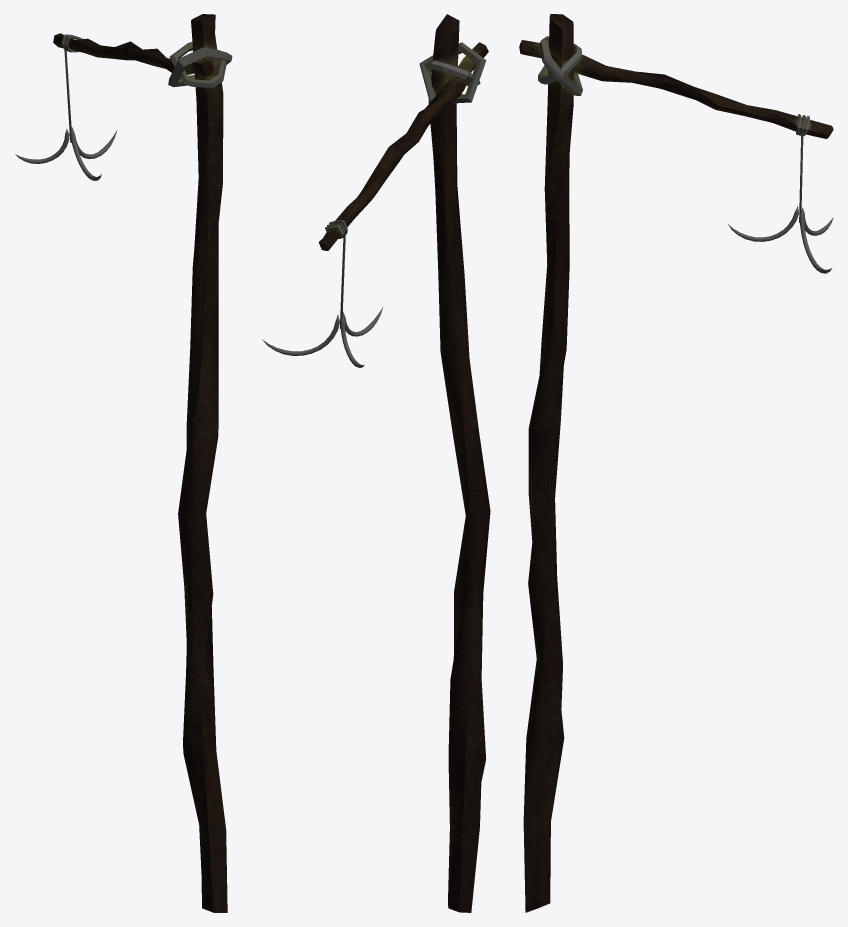
File: dreamcaster.gltf
The picture shows the model from 3 angles, left to right: view 1: azimuth 30°, elevation 25°; view 2: azimuth 150°, elevation 25°; view 3: azimuth 270°, elevation 25°; orthographic projection.
Parts seen in each view (by area): view 1: Sweep_1__0; view 2: Sweep_1__0; view 3: Sweep_1__0.
Boxes of the visible parts, <box> form: Sweep_1__0: <box>15,14,232,912</box>; Sweep_1__0: <box>262,14,490,912</box>; Sweep_1__0: <box>519,14,833,912</box>.
Size of the model in its own units: 2.35 by 19.48 by 6.2.
1 material, 1 textured.
